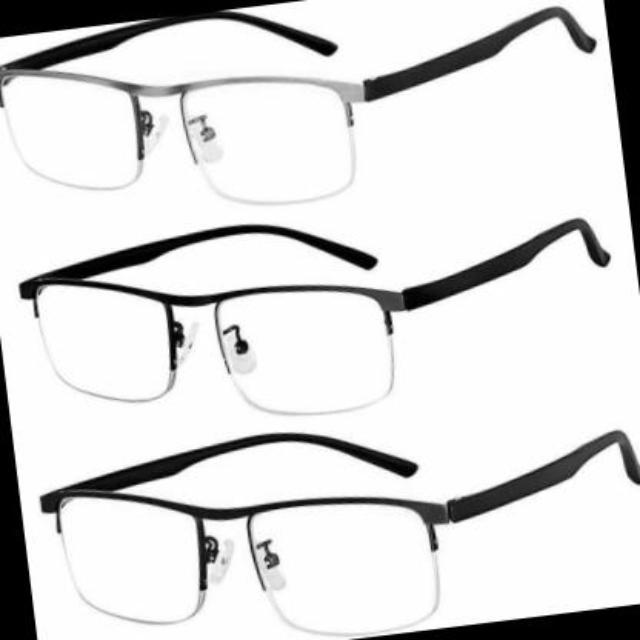glasses: (32, 429, 633, 639), (18, 218, 602, 415), (0, 17, 610, 203)
